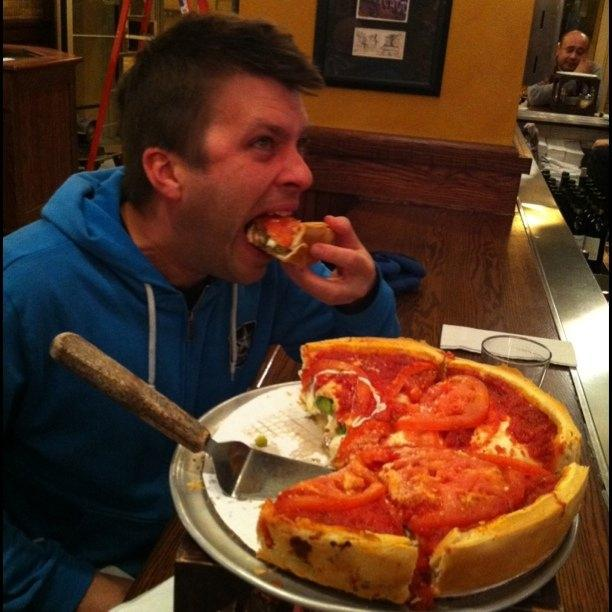tomato: (405, 453, 525, 533), (391, 375, 490, 433), (288, 461, 385, 511), (380, 362, 436, 404), (255, 217, 294, 247), (352, 379, 376, 421), (333, 373, 359, 396), (380, 378, 392, 388)
